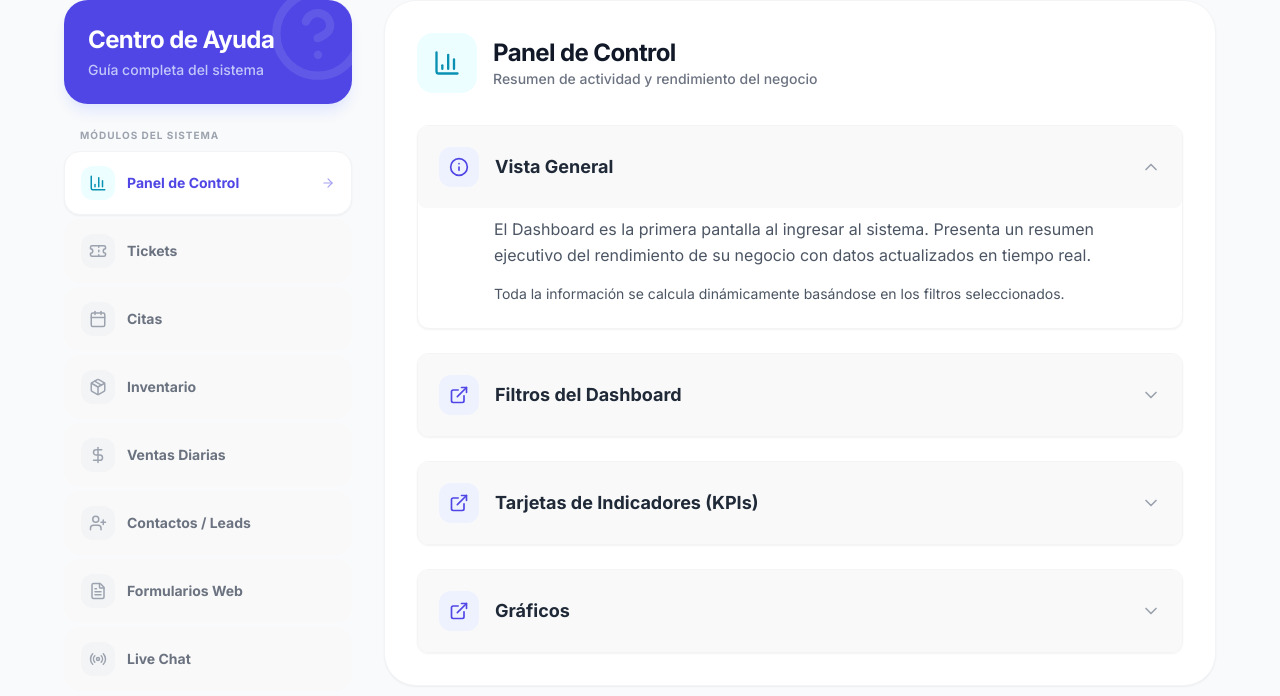
Test: Help — Formularios Web › shows the correct title and description when selected
Click the button "Formularios Web". click: {"x": 208, "y": 591}
box: [64, 559, 352, 623]
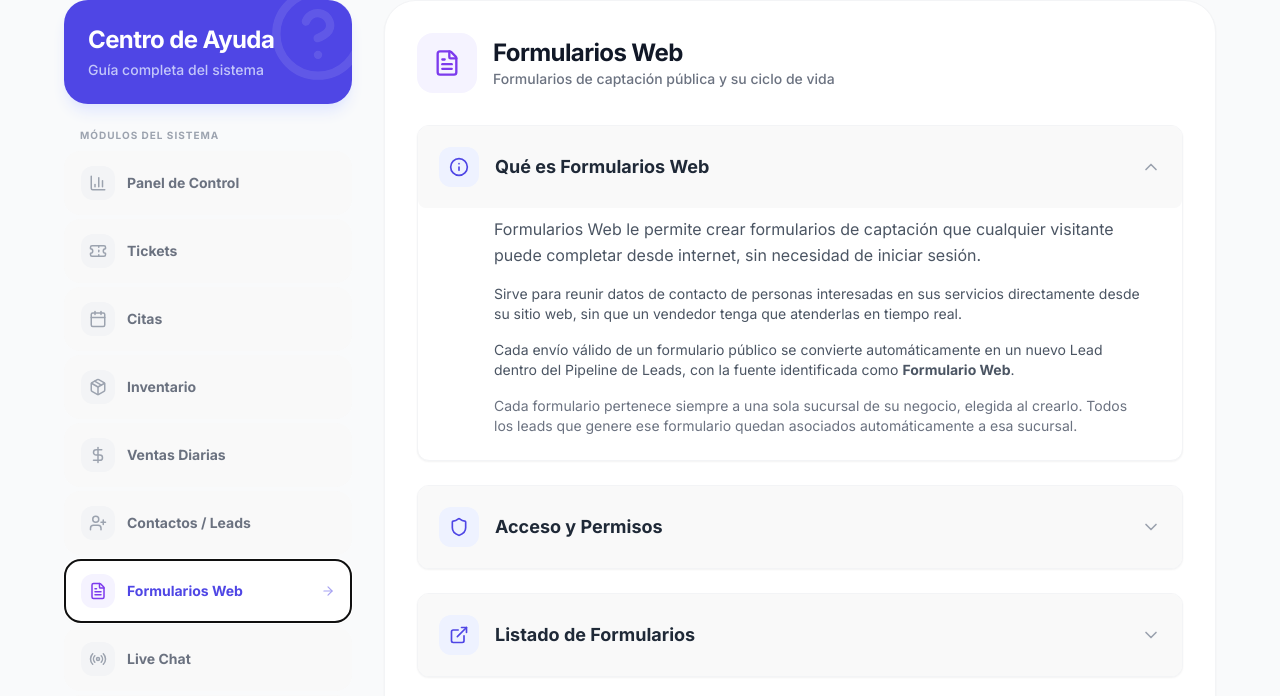
Now the heading "Formularios Web" is shown, box [493, 38, 683, 67]
Now the text "Formularios de captación pública y su ciclo de vida" is shown, box [493, 69, 835, 89]
